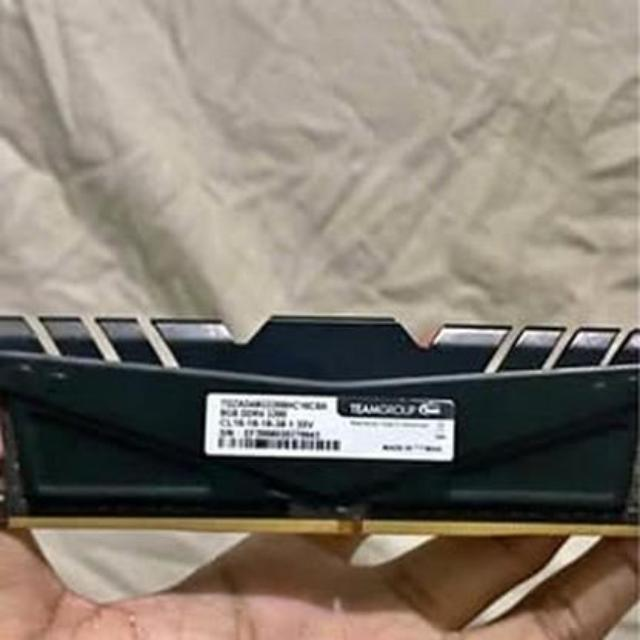RAM: (0, 302, 640, 548)
